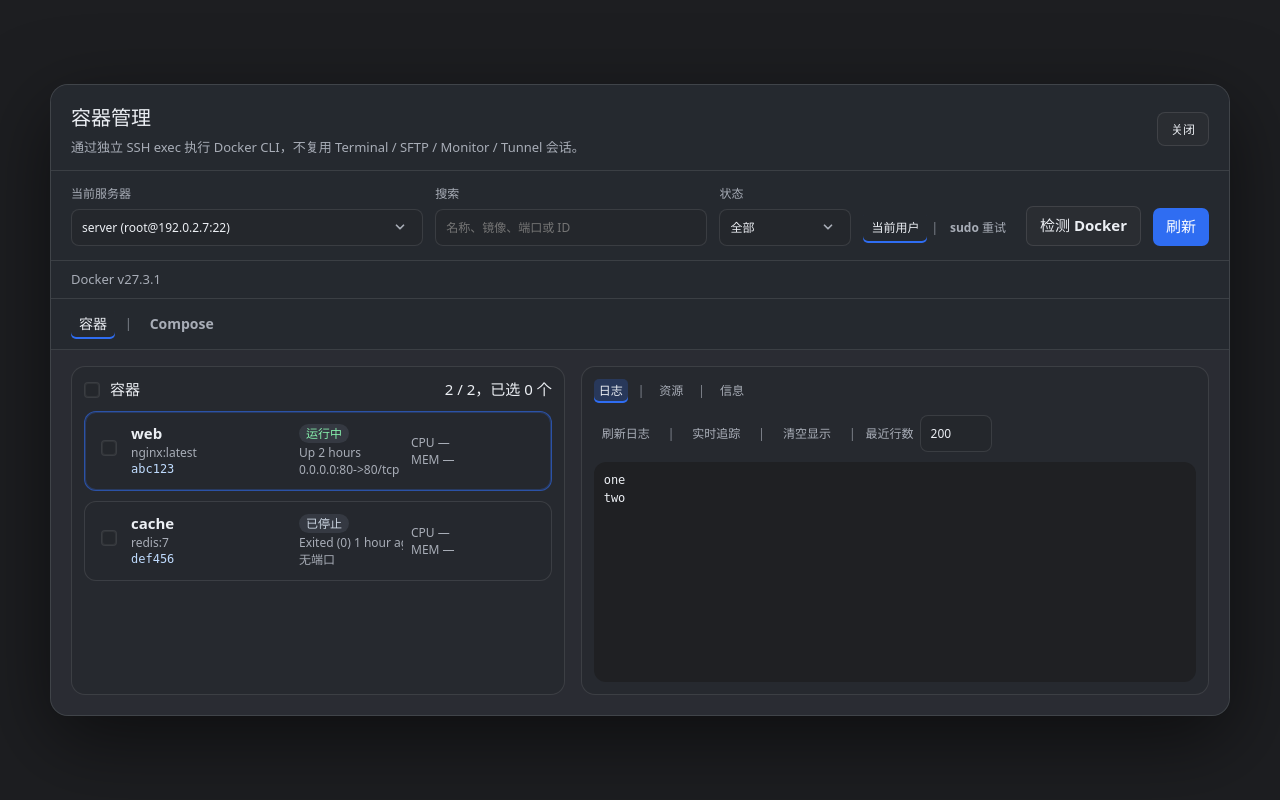
it: DockerManagerDialog › keeps the Compose empty-project state visually quiet without the placeholder sentence
Click the button with test id "docker-compose-tab": (182, 324) [142,309,222,339]
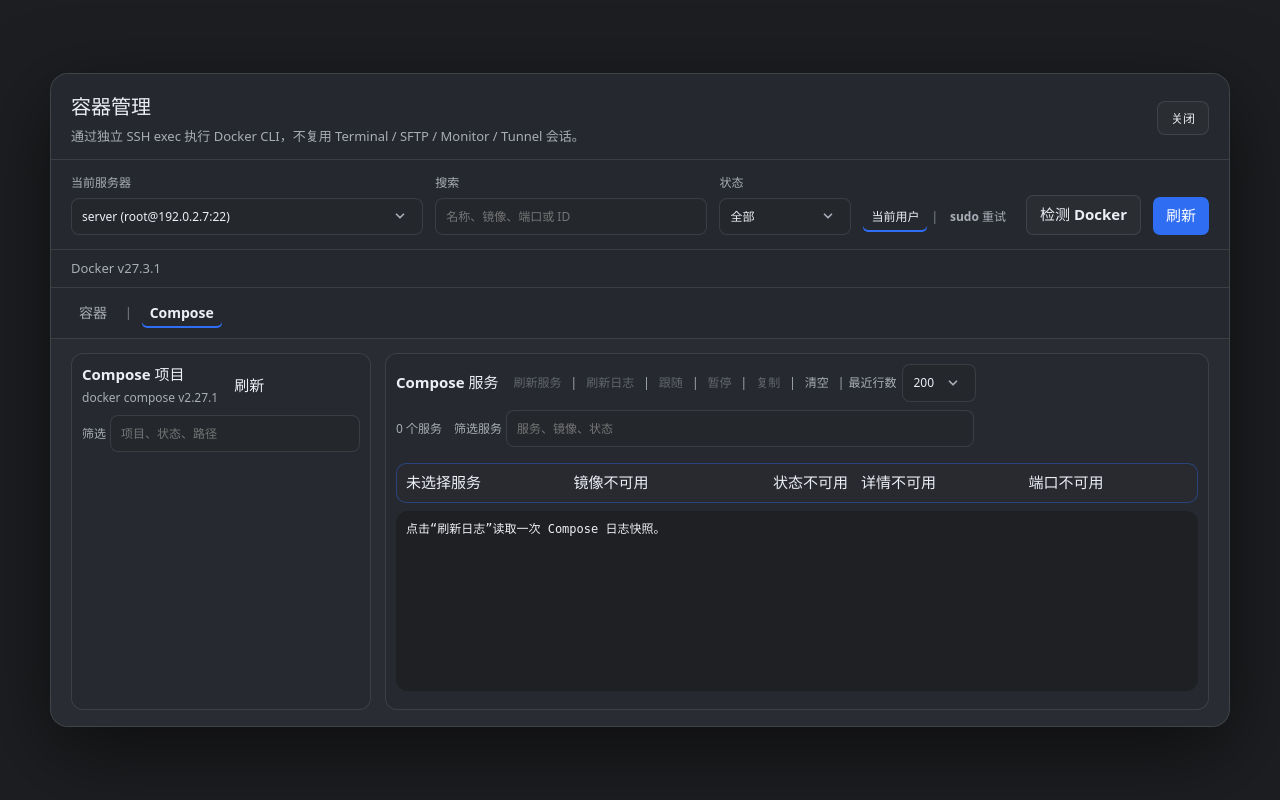
expect the element with test id "docker-compose-panel" is shown: met, box [51,340,1229,726]
